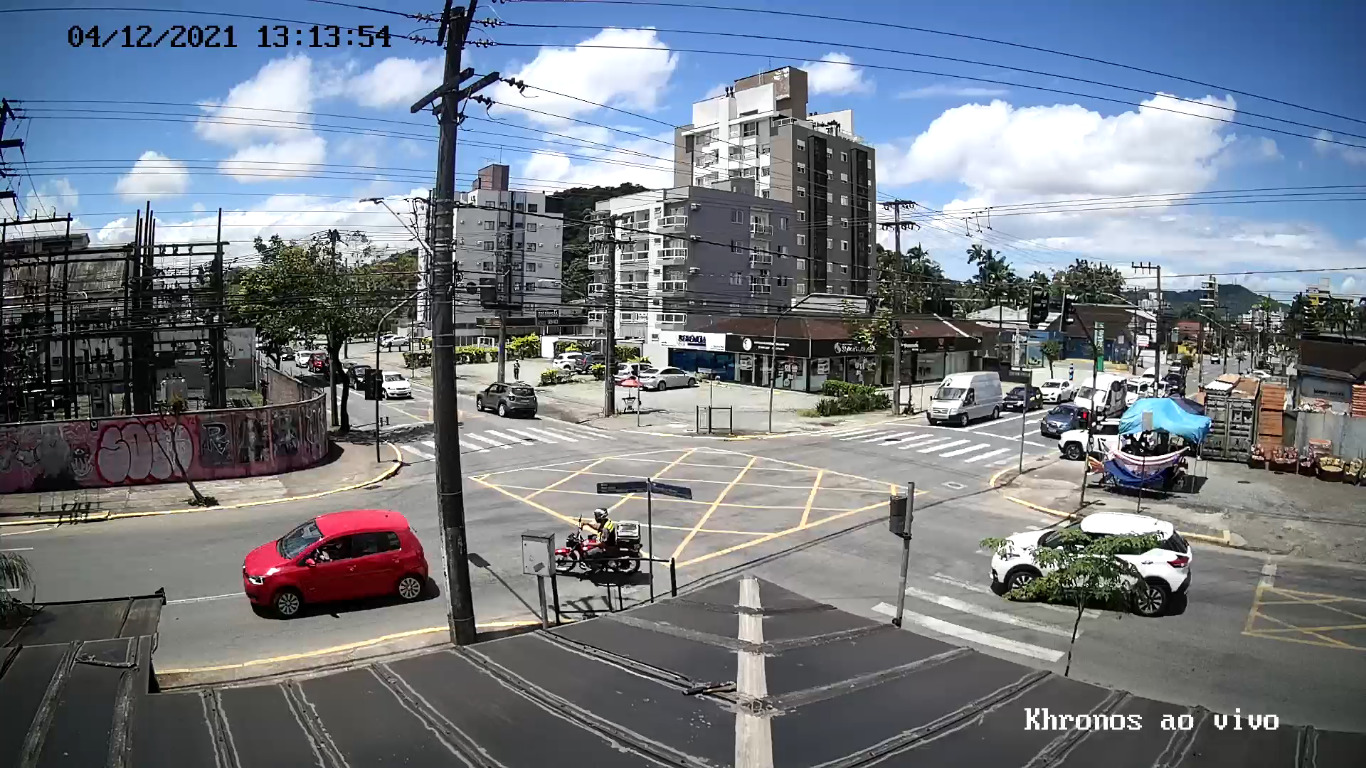car: (989, 511, 1192, 618), (240, 508, 429, 620)
